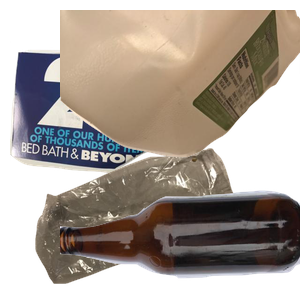glass: (60, 188, 300, 300)
paper: (10, 41, 242, 207)
plastic: (60, 10, 300, 160)
trash: (33, 145, 270, 300)
